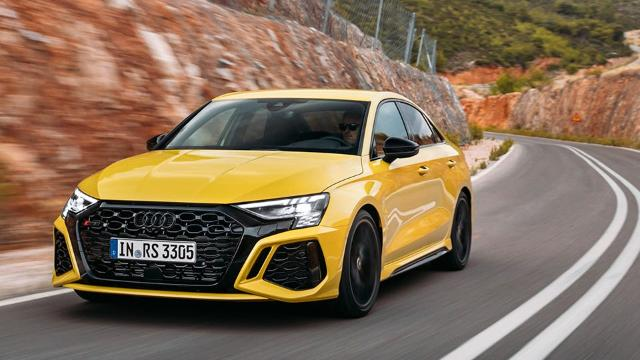audi: (51, 88, 473, 318)
